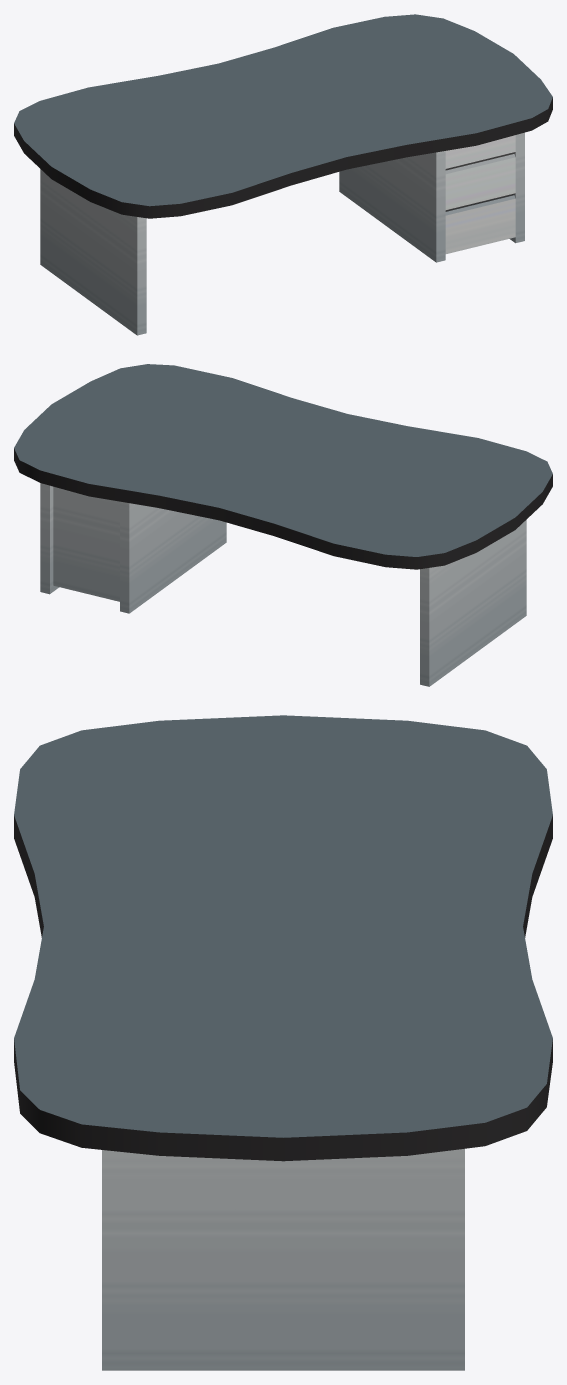
Rendered from table-06.glb.
3 renders of one model, top to bottom at view 1: azimuth 30°, elevation 25°; view 2: azimuth 150°, elevation 25°; view 3: azimuth 270°, elevation 25°, orthographic. The views are drawn at different scales.
Parts seen in each view (by area): view 1: Table_06; view 2: Table_06; view 3: Table_06.
Part boxes in pixels (<box>): Table_06: <box>14,14,552,335</box>; Table_06: <box>14,364,552,686</box>; Table_06: <box>14,715,552,1370</box>.
Bounding box in the file's own units: 2.71 × 0.7969 × 1.46.
1 material, 1 textured.
